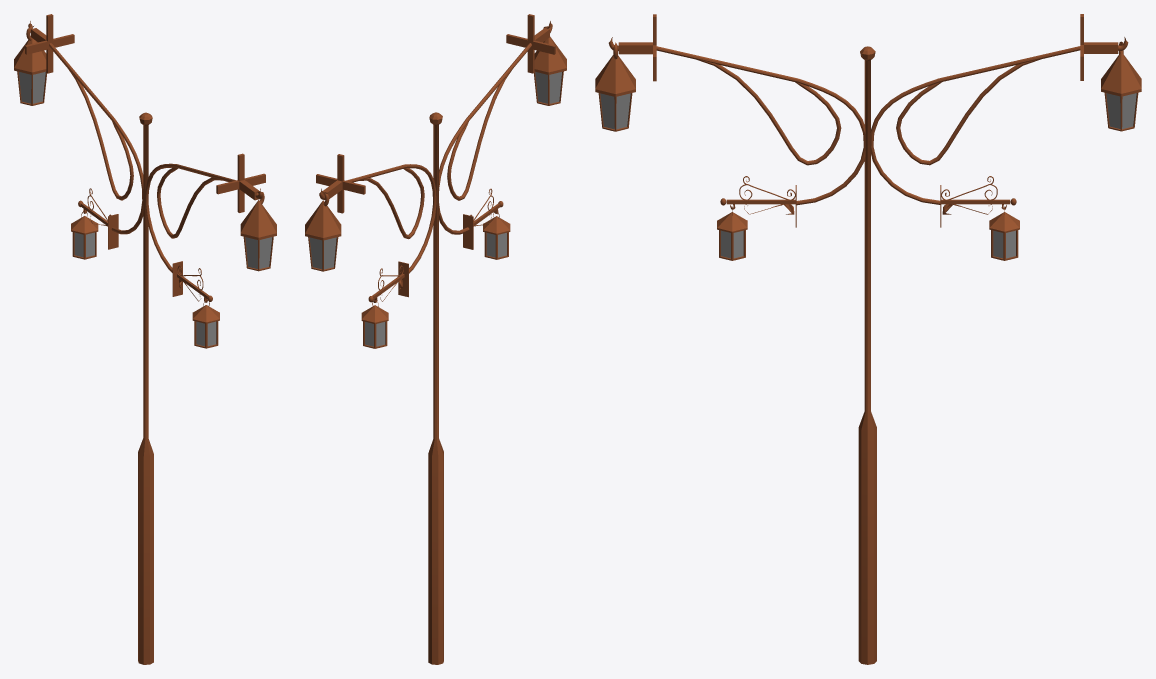
The model's file is ludeng4.FBX.
3 views of the same model, side by side, from view 1: azimuth 30°, elevation 25°; view 2: azimuth 150°, elevation 25°; view 3: azimuth 270°, elevation 25° (orthographic). The views are drawn at different scales.
Parts seen in each view (by area): view 1: y528, Acc_Light016, Acc_Light017, y529, Acc_Light015, Acc_Light018, 对象017, 对象016, 对象018, 对象015; view 2: y528, Acc_Light017, Acc_Light016, y529, Acc_Light018, Acc_Light015, 对象017, 对象016, 对象015, 对象018; view 3: y528, y529, Acc_Light016, Acc_Light017, Acc_Light018, Acc_Light015, 对象016, 对象017.
Boxes of the visible parts, x1=… form: y528: x1=138, y1=112, x2=235, y2=664; Acc_Light016: x1=216, y1=153, x2=276, y2=271; Acc_Light017: x1=14, y1=14, x2=74, y2=105; y529: x1=49, y1=43, x2=143, y2=234; Acc_Light015: x1=172, y1=261, x2=219, y2=348; Acc_Light018: x1=71, y1=188, x2=118, y2=259; 对象017: x1=19, y1=71, x2=45, y2=103; 对象016: x1=245, y1=237, x2=272, y2=268; 对象018: x1=74, y1=232, x2=94, y2=257; 对象015: x1=196, y1=321, x2=216, y2=346; y528: x1=428, y1=43, x2=531, y2=664; Acc_Light017: x1=305, y1=154, x2=365, y2=271; Acc_Light016: x1=506, y1=14, x2=566, y2=105; y529: x1=346, y1=164, x2=436, y2=273; Acc_Light018: x1=361, y1=261, x2=408, y2=348; Acc_Light015: x1=463, y1=188, x2=510, y2=259; 对象017: x1=309, y1=237, x2=336, y2=269; 对象016: x1=535, y1=72, x2=561, y2=103; 对象015: x1=486, y1=233, x2=506, y2=257; 对象018: x1=365, y1=322, x2=385, y2=346; y528: x1=656, y1=46, x2=876, y2=664; y529: x1=870, y1=46, x2=1080, y2=204; Acc_Light016: x1=595, y1=14, x2=656, y2=131; Acc_Light017: x1=1080, y1=14, x2=1141, y2=131; Acc_Light018: x1=940, y1=176, x2=1019, y2=260; Acc_Light015: x1=717, y1=176, x2=796, y2=260; 对象016: x1=600, y1=93, x2=630, y2=129; 对象017: x1=1106, y1=93, x2=1136, y2=129.
Size of the model in its own units: 0.7404 by 8.39 by 6.44.
